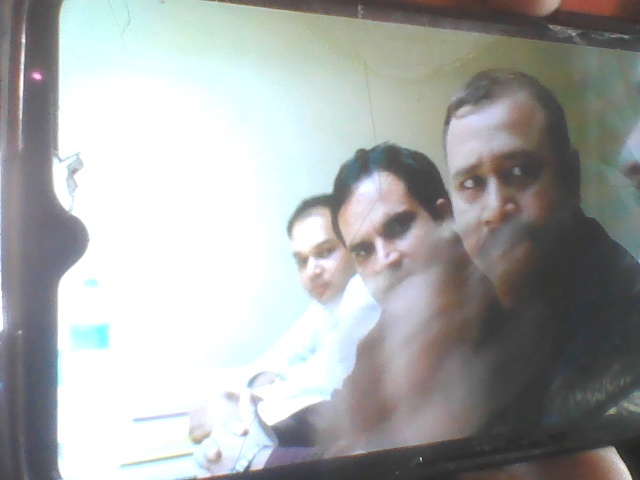fake: (436, 67, 590, 286)
